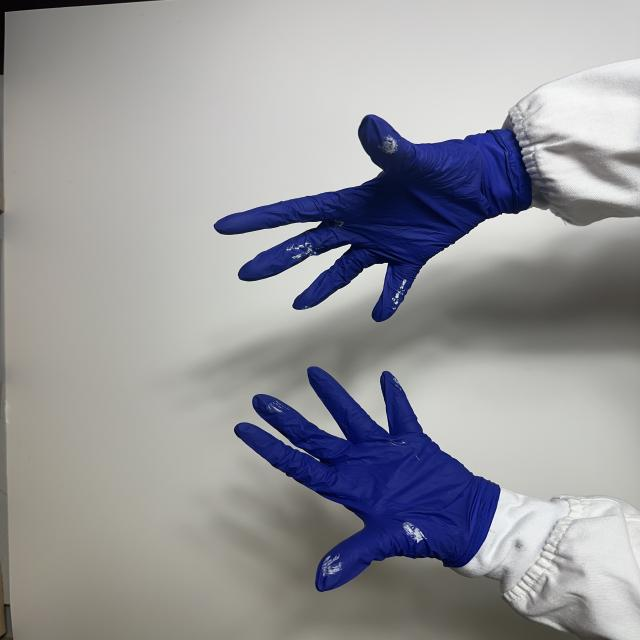gloves_contaminated: (214, 116, 532, 322), (235, 367, 500, 591)
